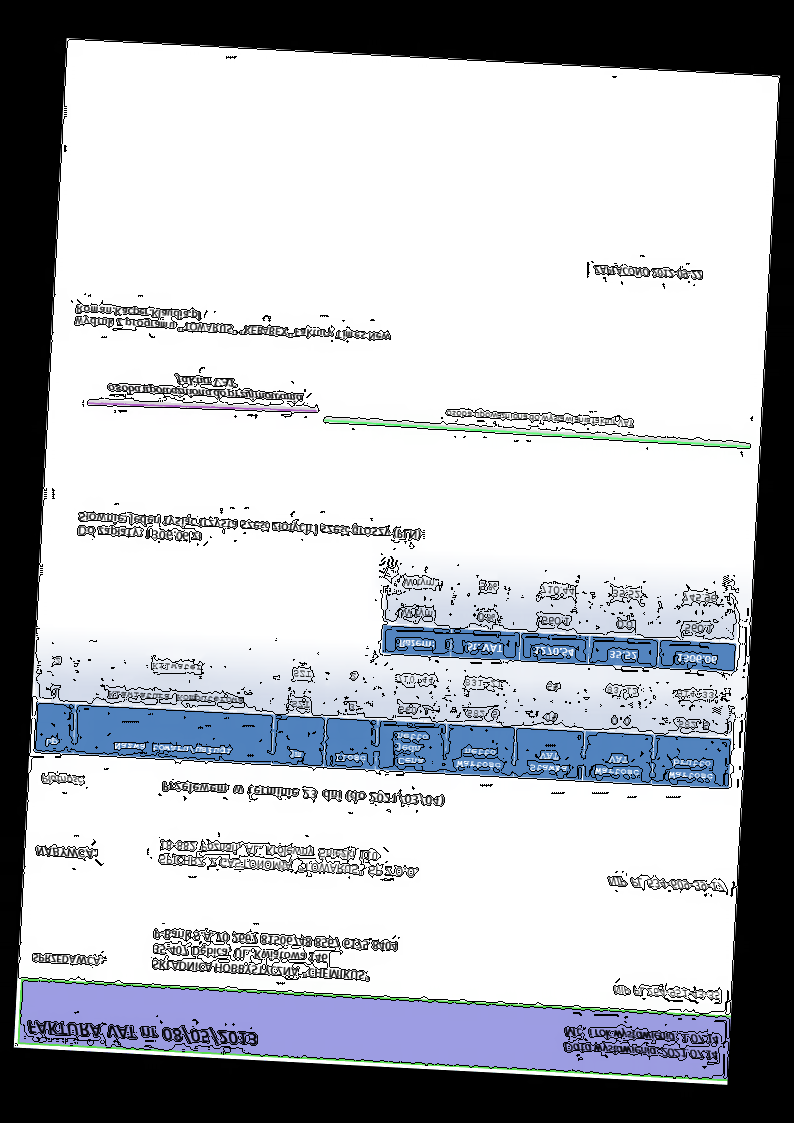Table: (32, 639, 735, 789), (380, 563, 741, 673)
TextBox: (76, 508, 423, 555), (149, 926, 401, 986), (72, 301, 393, 344), (156, 838, 422, 880), (160, 779, 446, 809), (24, 1016, 260, 1049), (106, 371, 305, 406), (560, 1023, 721, 1063), (444, 406, 634, 429), (606, 873, 726, 894), (591, 261, 704, 283), (611, 983, 721, 1002), (30, 950, 106, 968), (34, 843, 99, 862), (39, 772, 86, 788)
